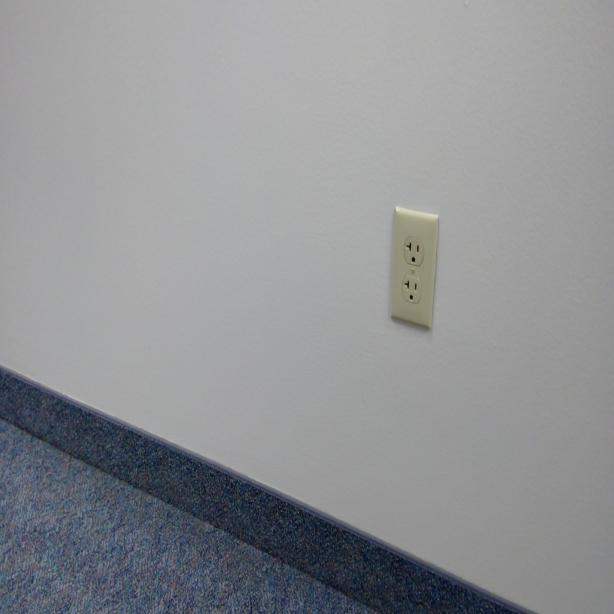typeb: (404, 234, 424, 265), (402, 275, 421, 304)
